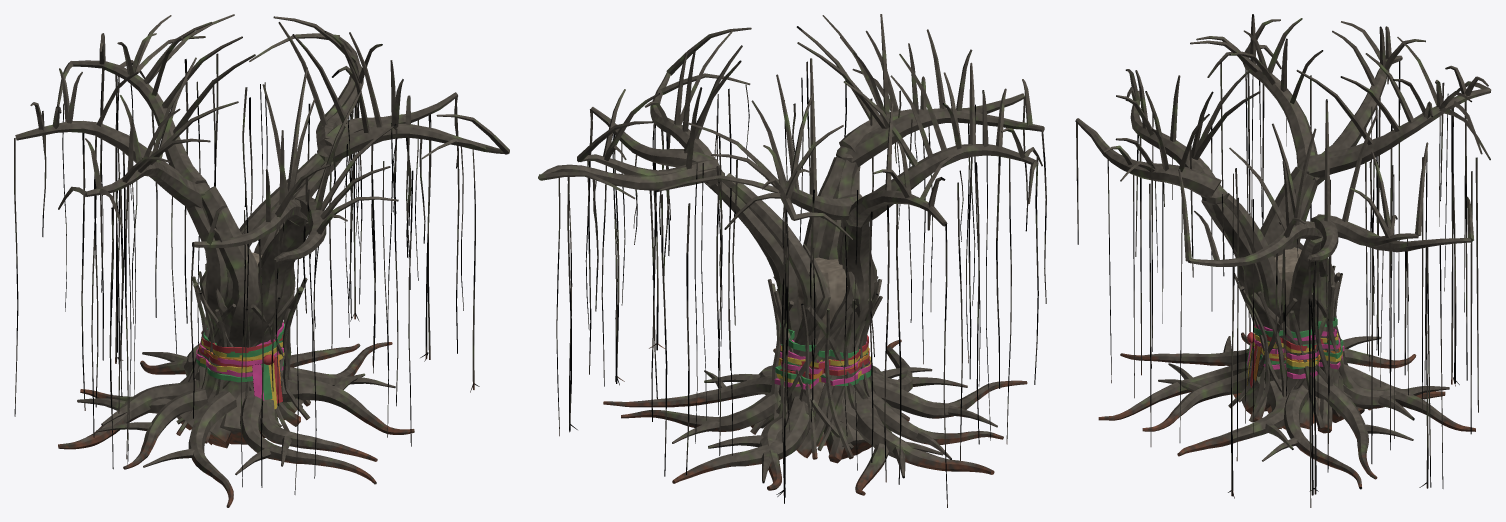
File: SacredBanyanTree.fbx
3 views of the same model, side by side, from view 1: azimuth 30°, elevation 25°; view 2: azimuth 150°, elevation 25°; view 3: azimuth 270°, elevation 25° (orthographic). The views are drawn at different scales.
Parts seen in each view (by area): view 1: BanyanAerialRoots, BanyanRoots, BanyanTwigs, BanyanTrunk, BanyanLimbs, SacredThaiRibbons; view 2: BanyanAerialRoots, BanyanTrunk, BanyanRoots, BanyanTwigs, BanyanLimbs, SacredThaiRibbons; view 3: BanyanAerialRoots, BanyanTwigs, BanyanRoots, BanyanLimbs, BanyanTrunk, SacredThaiRibbons.
Part boxes in pixels (bbox=[...]): BanyanAerialRoots: bbox=[14, 53, 479, 494]; BanyanRoots: bbox=[58, 331, 414, 507]; BanyanTwigs: bbox=[30, 14, 509, 246]; BanyanTrunk: bbox=[176, 153, 342, 448]; BanyanLimbs: bbox=[15, 37, 504, 262]; SacredThaiRibbons: bbox=[196, 319, 284, 409]; BanyanAerialRoots: bbox=[556, 61, 1046, 507]; BanyanTrunk: bbox=[704, 157, 901, 463]; BanyanRoots: bbox=[603, 339, 1027, 495]; BanyanTwigs: bbox=[538, 14, 1042, 240]; BanyanLimbs: bbox=[538, 72, 1044, 227]; SacredThaiRibbons: bbox=[774, 323, 871, 389]; BanyanAerialRoots: bbox=[1076, 61, 1478, 507]; BanyanTwigs: bbox=[1103, 14, 1491, 261]; BanyanRoots: bbox=[1098, 332, 1475, 489]; BanyanLimbs: bbox=[1075, 48, 1490, 266]; BanyanTrunk: bbox=[1201, 166, 1364, 433]; SacredThaiRibbons: bbox=[1245, 317, 1344, 387].
Size of the model in its own units: 1116 by 956 by 1009.
Materials: 1 (1 with a texture image).
